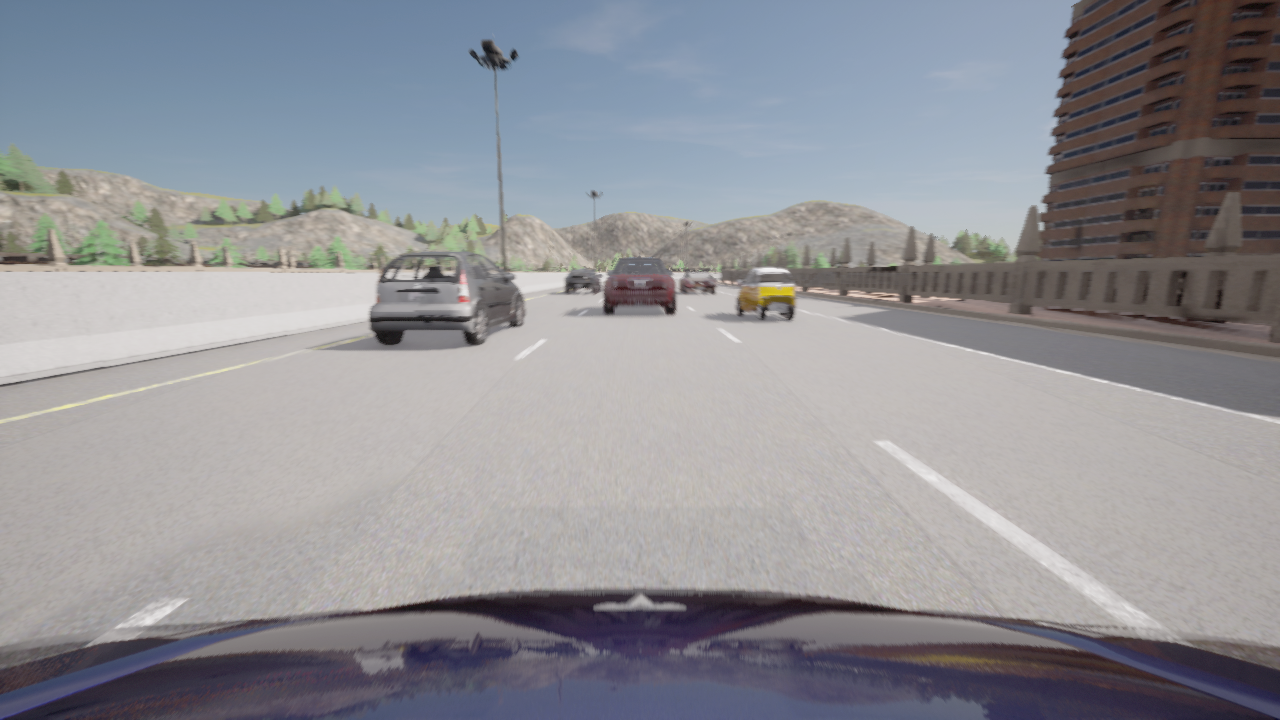cyclist: (0, 588, 1279, 719), (368, 250, 524, 345), (604, 256, 675, 313), (737, 267, 795, 320), (565, 268, 601, 293), (680, 272, 717, 293)
